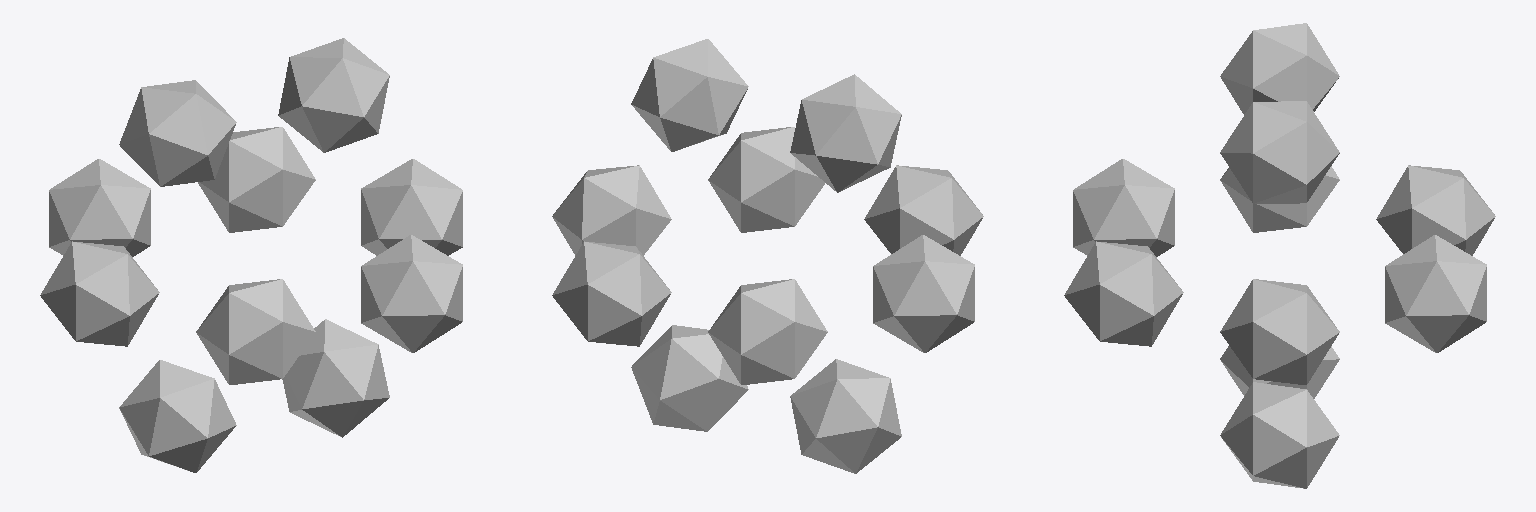
File: twentys.obj
The picture shows the model from 3 angles: view 1: azimuth 30°, elevation 25°; view 2: azimuth 150°, elevation 25°; view 3: azimuth 270°, elevation 25°; orthographic projection.
Visible parts, largest first — view 1: pPlatonic11, pPlatonic4, pPlatonic12, pPlatonic3, pPlatonic2, pPlatonic8, pPlatonic9, pPlatonic6, pPlatonic7, pPlatonic10; view 2: pPlatonic8, pPlatonic2, pPlatonic12, pPlatonic7, pPlatonic6, pPlatonic11, pPlatonic9, pPlatonic4, pPlatonic10, pPlatonic3; view 3: pPlatonic6, pPlatonic11, pPlatonic10, pPlatonic9, pPlatonic4, pPlatonic3, pPlatonic7, pPlatonic12, pPlatonic2, pPlatonic8.
Boxes of the visible parts, <box> form: pPlatonic11: <box>278,38,389,152</box>; pPlatonic4: <box>361,235,462,352</box>; pPlatonic12: <box>119,80,236,186</box>; pPlatonic3: <box>196,279,315,384</box>; pPlatonic2: <box>40,241,159,346</box>; pPlatonic8: <box>119,360,236,472</box>; pPlatonic9: <box>282,319,389,437</box>; pPlatonic6: <box>198,127,315,232</box>; pPlatonic7: <box>49,159,150,256</box>; pPlatonic10: <box>361,159,462,255</box>; pPlatonic8: <box>790,359,901,473</box>; pPlatonic2: <box>873,235,974,352</box>; pPlatonic12: <box>790,74,901,192</box>; pPlatonic7: <box>708,279,827,384</box>; pPlatonic6: <box>552,241,671,346</box>; pPlatonic11: <box>631,39,748,151</box>; pPlatonic9: <box>631,325,748,431</box>; pPlatonic4: <box>708,127,824,232</box>; pPlatonic10: <box>552,165,671,255</box>; pPlatonic3: <box>864,165,983,255</box>; pPlatonic6: <box>1385,235,1486,352</box>; pPlatonic11: <box>1220,101,1339,203</box>; pPlatonic10: <box>1220,279,1339,384</box>; pPlatonic9: <box>1220,382,1339,488</box>; pPlatonic4: <box>1064,241,1183,346</box>; pPlatonic3: <box>1073,159,1174,256</box>; pPlatonic7: <box>1376,165,1495,255</box>; pPlatonic12: <box>1220,23,1339,114</box>; pPlatonic2: <box>1220,166,1339,232</box>; pPlatonic8: <box>1220,346,1339,398</box>.
Size of the model in its own units: 7.79 by 6.98 by 7.19.